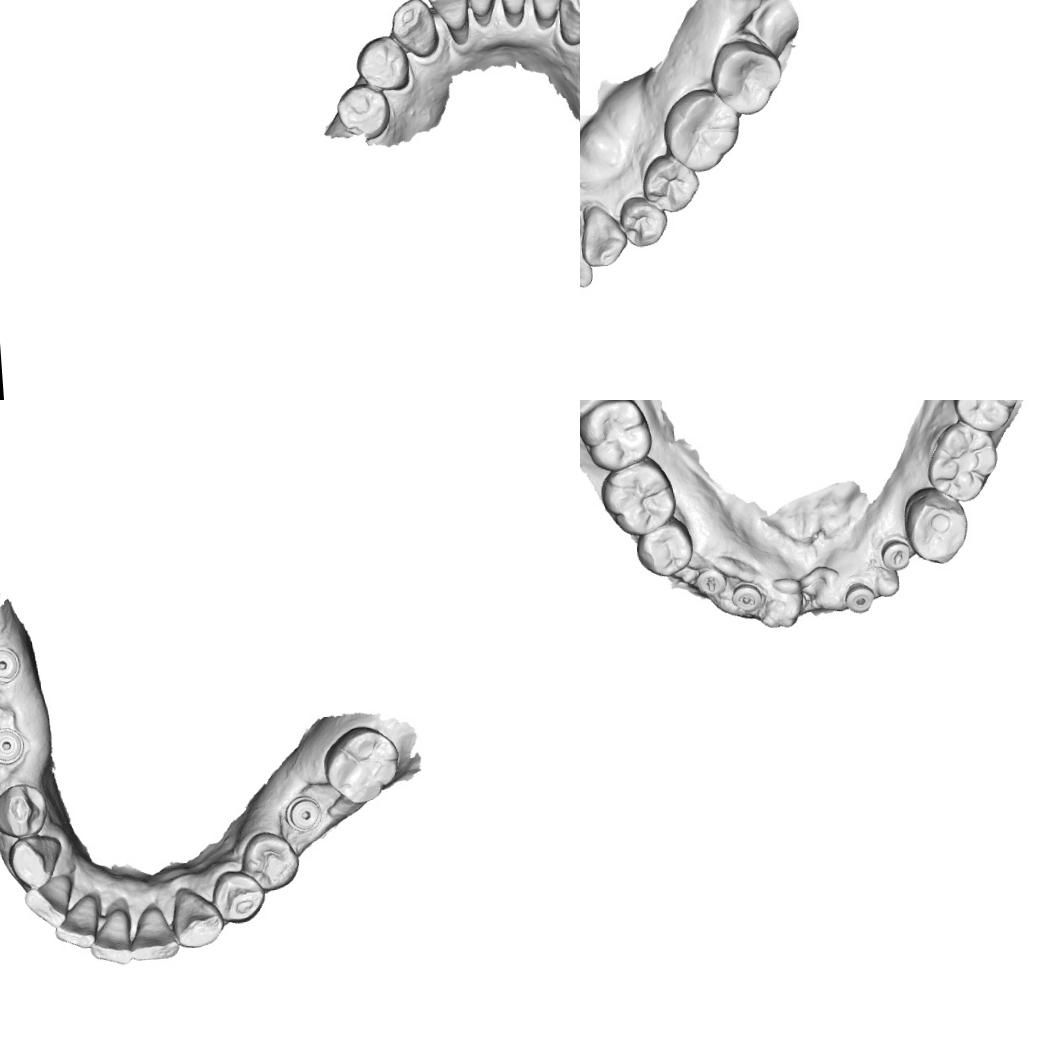canine: (168, 882, 226, 949), (4, 832, 64, 890), (580, 201, 629, 268), (387, 0, 440, 59), (554, 0, 580, 46)
implant: (282, 793, 324, 834), (0, 723, 26, 767), (844, 582, 874, 612), (0, 643, 21, 685)
implant_minus: (876, 540, 911, 571), (728, 582, 760, 613), (694, 563, 724, 596)
incisor: (21, 872, 75, 930), (128, 902, 180, 962), (52, 892, 101, 950), (87, 908, 133, 966), (424, 0, 471, 46), (526, 0, 569, 30), (458, 0, 498, 28), (580, 209, 594, 289), (493, 0, 532, 28)
molar: (318, 720, 406, 808), (659, 85, 743, 173), (707, 36, 785, 118), (928, 420, 1007, 500), (600, 460, 674, 530), (580, 400, 648, 468), (954, 400, 1021, 432)
premolar: (905, 489, 968, 565), (238, 827, 300, 893), (640, 151, 701, 214), (634, 516, 692, 578), (334, 80, 392, 141), (209, 867, 267, 925), (354, 34, 410, 93), (0, 779, 50, 840), (616, 194, 668, 249)
